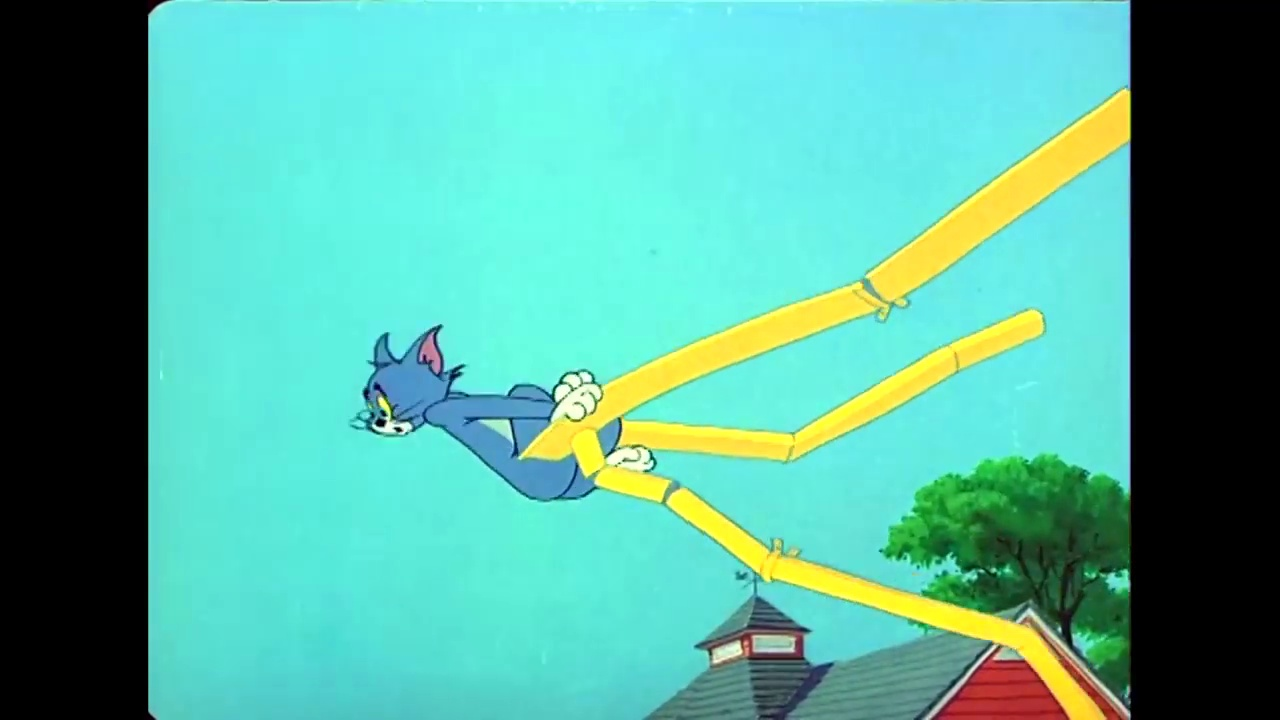tom: (351, 321, 463, 442)
